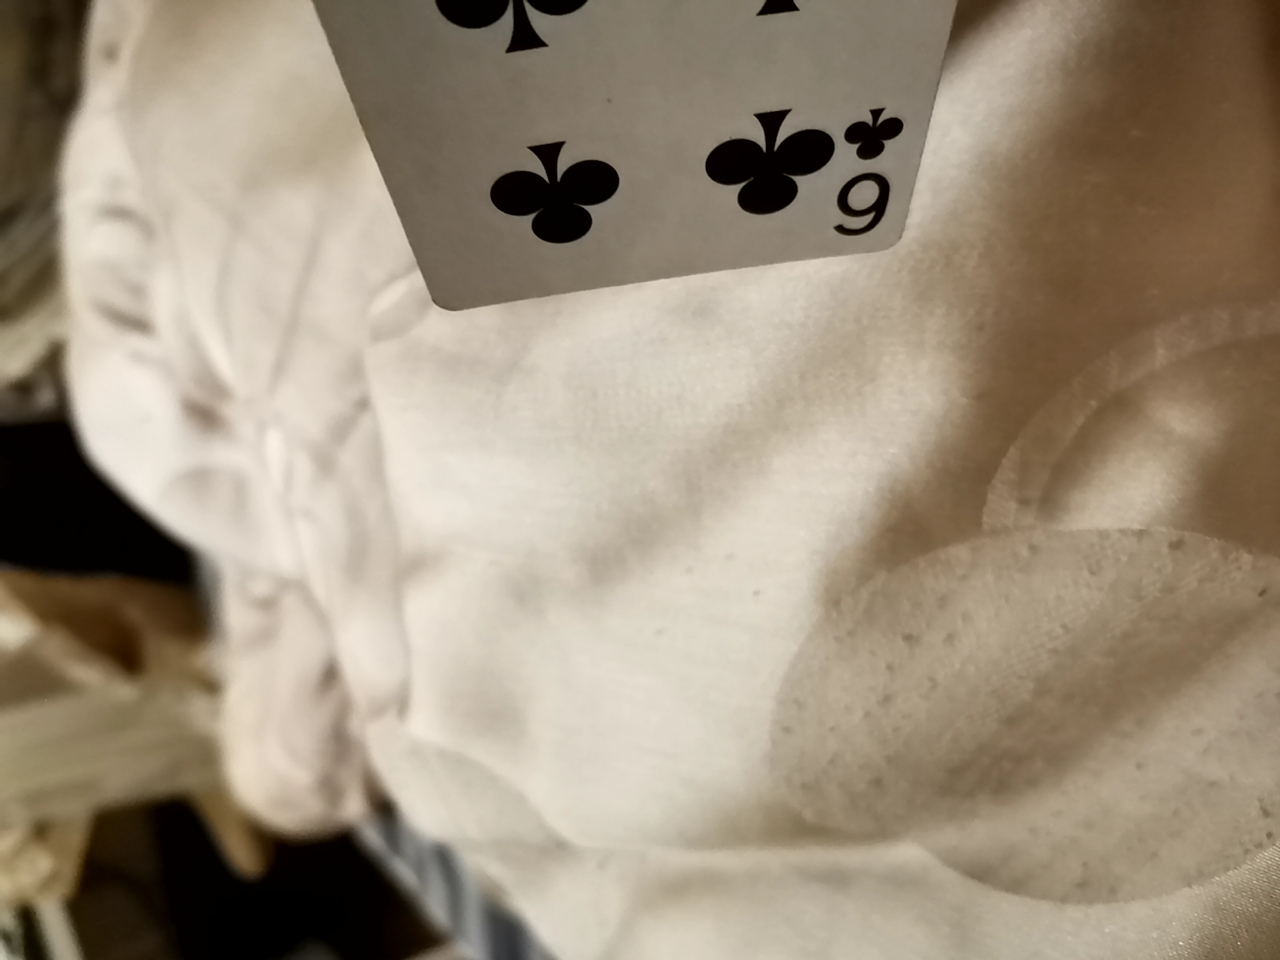mh 6: (301, 4, 1002, 276)
